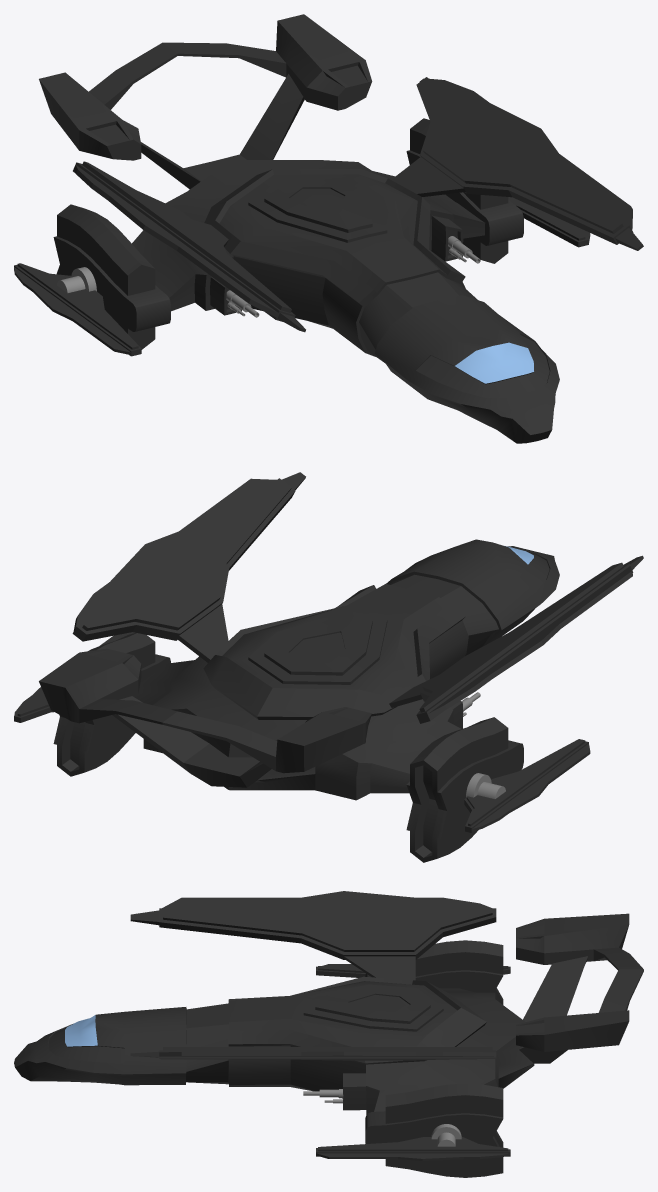
The model's file is boss-plasmoid.glb.
3 renders of one model, top to bottom at view 1: azimuth 30°, elevation 25°; view 2: azimuth 150°, elevation 25°; view 3: azimuth 270°, elevation 25°, orthographic. The views are drawn at different scales.
Visible parts, largest first — view 1: Куб, Плоскость.007, Куб.014, Куб.015, Плоскость.009, Плоскость.006, Цилиндр.011, Цилиндр.013; view 2: Куб, Плоскость.007, Куб.015, Куб.014, Плоскость.009, Плоскость.006, Цилиндр.013; view 3: Куб, Плоскость.007, Куб.015, Куб.014, Плоскость.009, Плоскость.006, Цилиндр.013.
Boxes of the visible parts, x1,y1,x2,y2 form: Куб: [132, 154, 559, 443]; Плоскость.007: [73, 77, 643, 332]; Куб.014: [39, 14, 372, 160]; Куб.015: [53, 118, 523, 349]; Плоскость.009: [14, 197, 590, 356]; Плоскость.006: [141, 74, 304, 189]; Цилиндр.011: [226, 236, 480, 317]; Цилиндр.013: [57, 267, 96, 293]; Куб: [133, 539, 559, 800]; Плоскость.007: [72, 472, 643, 723]; Куб.015: [53, 632, 523, 862]; Куб.014: [39, 648, 371, 773]; Плоскость.009: [14, 632, 590, 832]; Плоскость.006: [112, 696, 271, 787]; Цилиндр.013: [466, 773, 505, 798]; Куб: [14, 976, 534, 1114]; Плоскость.007: [130, 891, 496, 1060]; Куб.015: [365, 940, 503, 1177]; Куб.014: [516, 913, 643, 1051]; Плоскость.009: [316, 964, 510, 1160]; Плоскость.006: [519, 956, 587, 1063]; Цилиндр.013: [431, 1124, 461, 1146].
Bounding box in the file's own units: 0.6689 × 0.2201 × 0.9035.
